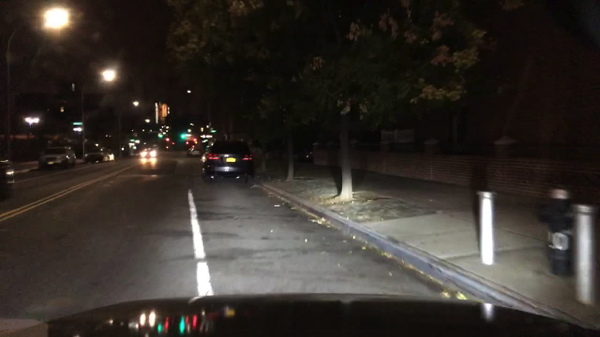car: (200, 140, 256, 186), (39, 145, 78, 169), (0, 154, 16, 199), (84, 147, 115, 166), (138, 147, 159, 158), (187, 148, 201, 157)
traffic light: (180, 128, 185, 140), (158, 131, 163, 138)
traffic sign: (72, 121, 82, 127), (72, 127, 81, 132), (210, 128, 218, 133), (204, 135, 213, 139)
